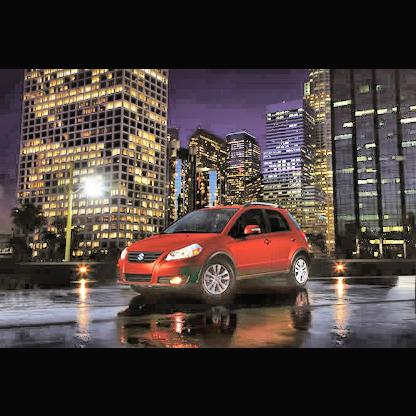Suzuki SX4 Hatchback 2012: (119, 203, 313, 306)
